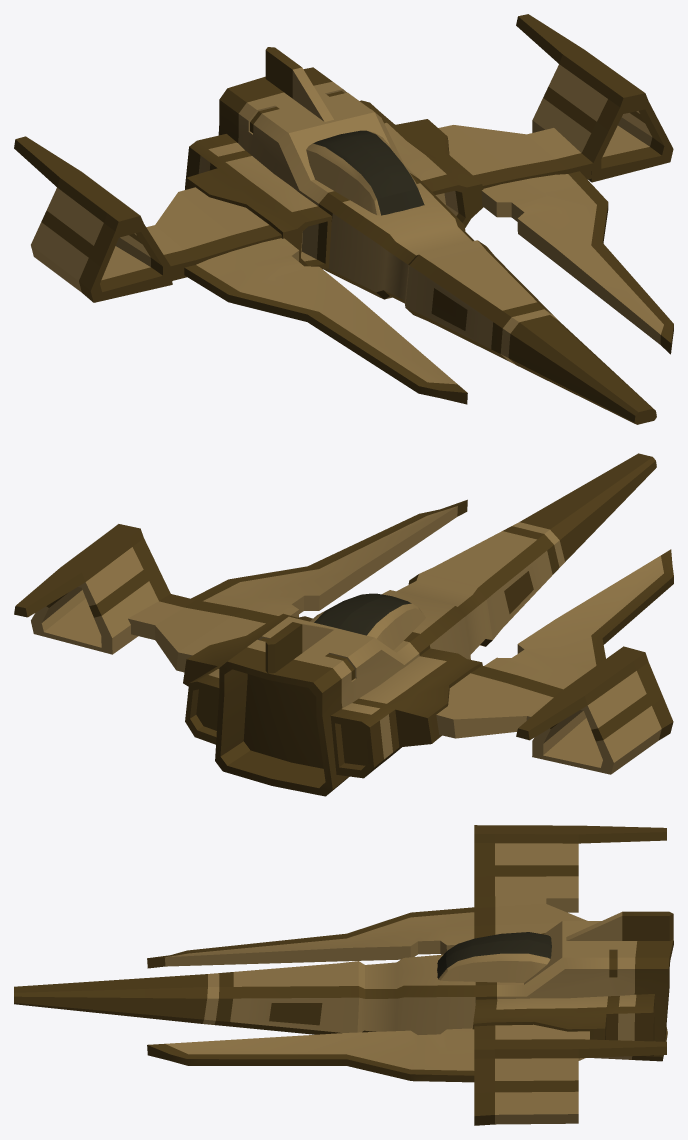
The model's file is quaternius-ultimate-space-spaceship-raetheredpanda.glb.
The picture shows the model from 3 angles, top to bottom: view 1: azimuth 30°, elevation 25°; view 2: azimuth 150°, elevation 25°; view 3: azimuth 270°, elevation 25°; orthographic projection. The views are drawn at different scales.
Parts seen in each view (by area): view 1: Spaceship_RaeTheRedPanda; view 2: Spaceship_RaeTheRedPanda; view 3: Spaceship_RaeTheRedPanda.
Boxes of the visible parts, <box> form: Spaceship_RaeTheRedPanda: <box>14,14,673,424</box>; Spaceship_RaeTheRedPanda: <box>14,453,673,796</box>; Spaceship_RaeTheRedPanda: <box>14,825,673,1125</box>.
Bounding box in the file's own units: 9.95 × 2.35 × 11.17.
Materials: 1 (1 with a texture image).
